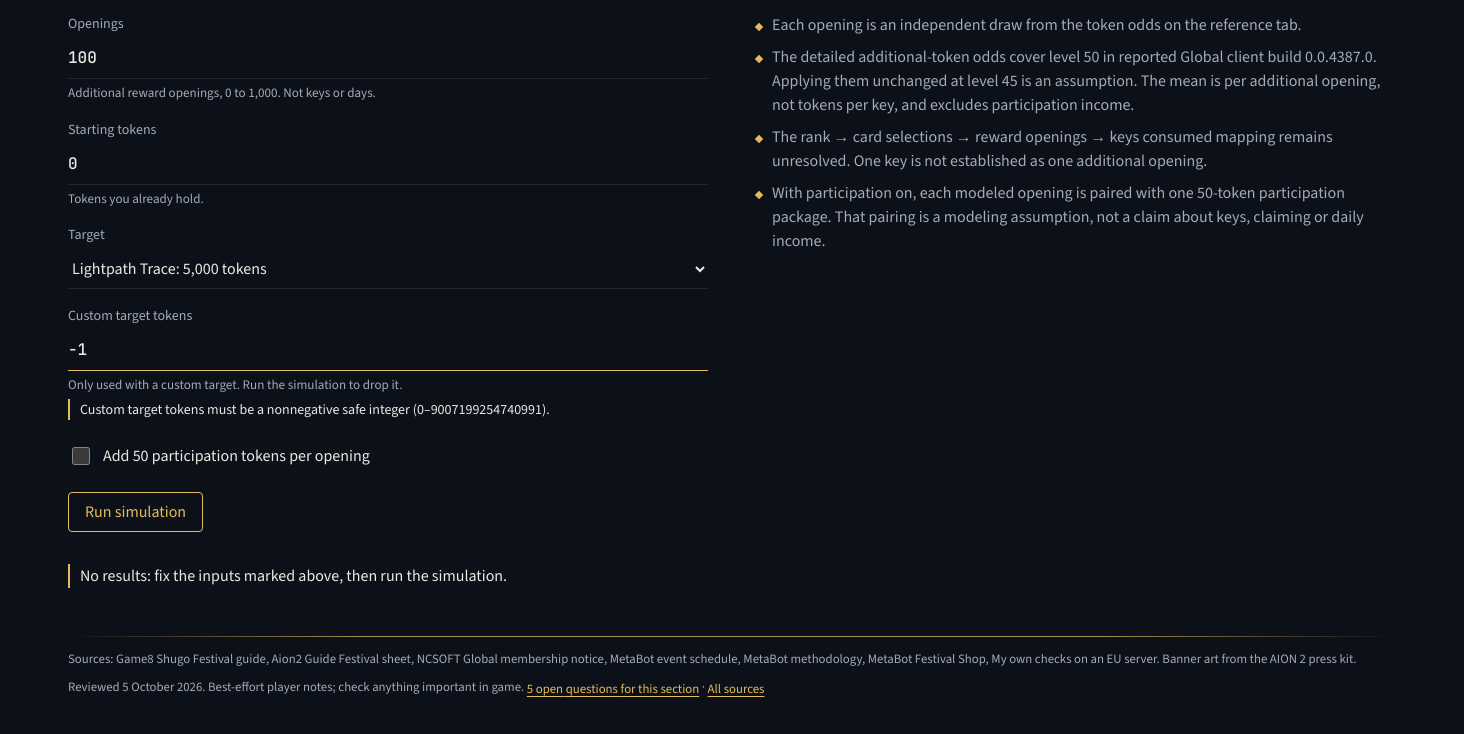
it: simulator › a bad custom amount beside a named target is shown and run drops it
(page scrolled)
Expected: the text "Custom target tokens must be a nonnegative" is shown, [80, 400, 550, 419]
Expected: the text "Only used with a custom target. Run the simulation" is shown, [68, 376, 402, 393]
Click the button "Run simulation": (136,512) [68, 492, 203, 532]
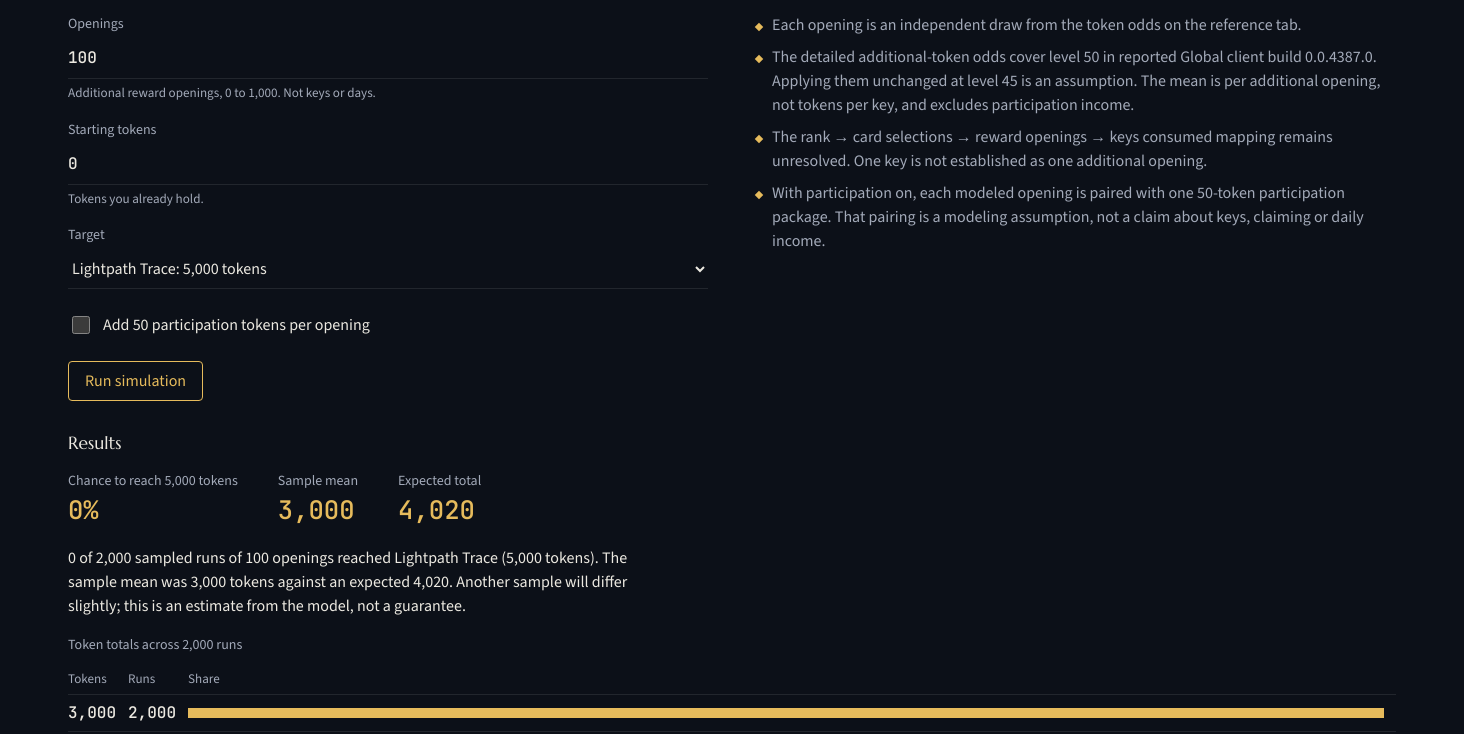
Expected: the label "Custom target tokens" is gone
